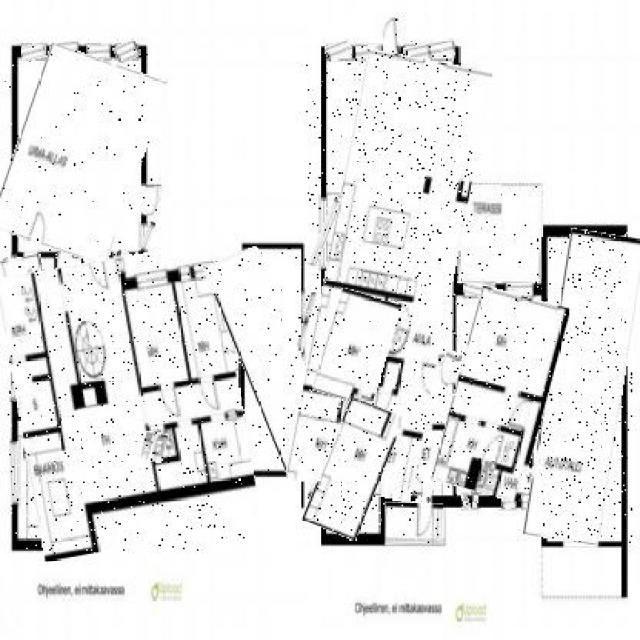door: (511, 389, 537, 425), (414, 498, 437, 538), (108, 251, 132, 289), (158, 389, 180, 426), (437, 351, 458, 386), (397, 386, 417, 422), (374, 390, 394, 424), (383, 17, 400, 57), (498, 434, 517, 464), (142, 188, 163, 215), (202, 394, 218, 428), (57, 222, 72, 258)
window: (294, 291, 312, 383), (314, 198, 334, 268), (314, 431, 334, 497), (404, 40, 456, 62), (135, 221, 151, 277), (156, 272, 190, 297), (6, 257, 23, 306), (449, 191, 463, 243), (318, 323, 329, 377), (464, 280, 496, 298), (114, 42, 140, 62), (326, 42, 352, 60), (11, 440, 18, 505), (52, 43, 78, 59), (22, 43, 46, 60), (214, 275, 234, 294), (86, 44, 111, 59), (357, 46, 381, 60), (506, 283, 534, 295), (520, 494, 535, 509), (501, 495, 517, 508), (200, 277, 212, 292), (11, 382, 18, 402), (462, 495, 469, 511), (472, 495, 478, 508)
zone: (306, 52, 472, 498), (8, 249, 249, 554), (3, 52, 154, 258), (536, 231, 632, 543), (443, 290, 559, 498), (223, 248, 320, 472), (314, 400, 392, 538), (8, 255, 63, 416), (318, 291, 396, 403), (458, 186, 542, 283), (137, 290, 197, 392), (189, 290, 240, 392), (192, 434, 242, 498), (386, 503, 445, 545), (143, 432, 168, 462), (500, 465, 522, 492)
